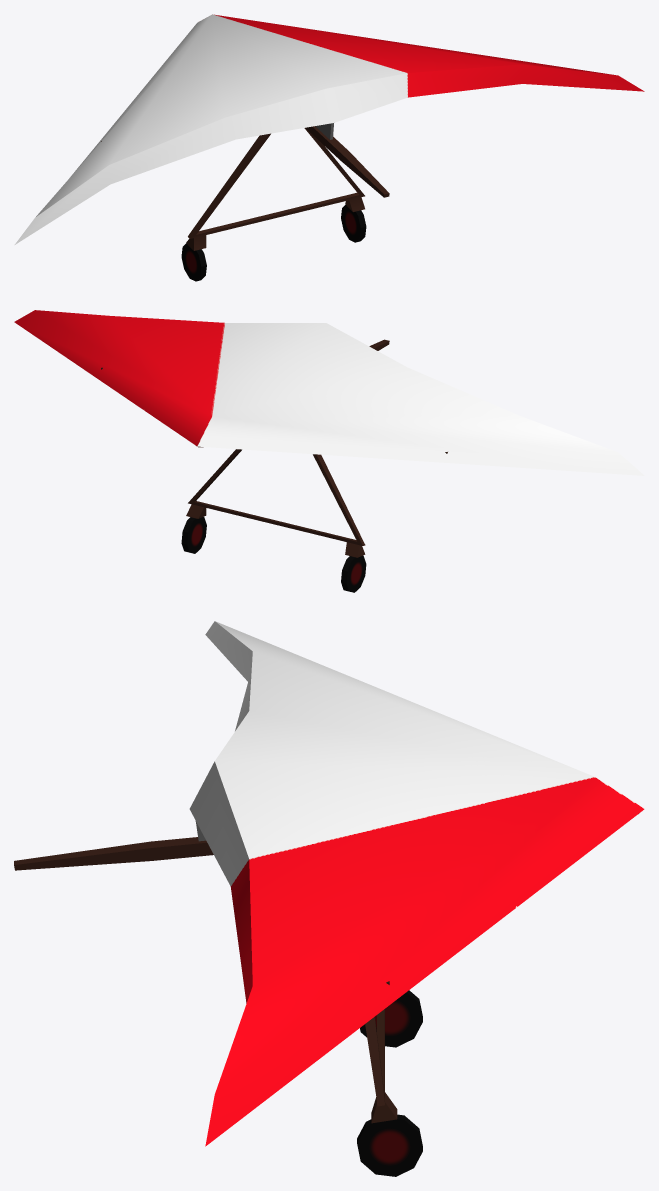
Rendered from glider.obj.
3 renders of one model, top to bottom at view 1: azimuth 30°, elevation 25°; view 2: azimuth 150°, elevation 25°; view 3: azimuth 270°, elevation 25°, orthographic. The views are drawn at different scales.
Parts seen in each view (by area): view 1: Glider; view 2: Glider; view 3: Glider.
Boxes of the visible parts, <box> form: Glider: <box>14,14,644,281</box>; Glider: <box>14,310,644,592</box>; Glider: <box>14,621,644,1176</box>.
Size of the model in its own units: 9.08 by 2.89 by 4.73.
